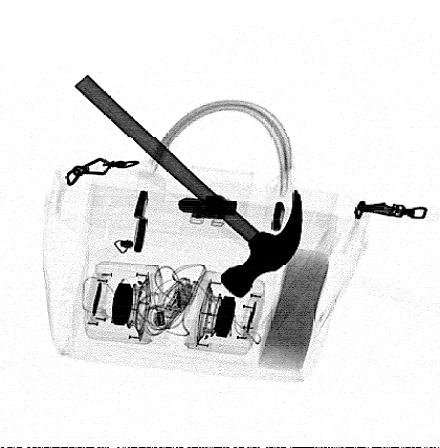Hammer: (75, 75, 303, 299)
